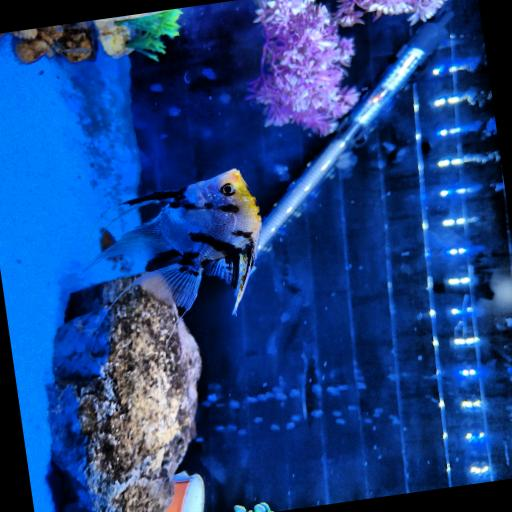Fish: (88, 168, 261, 313)
